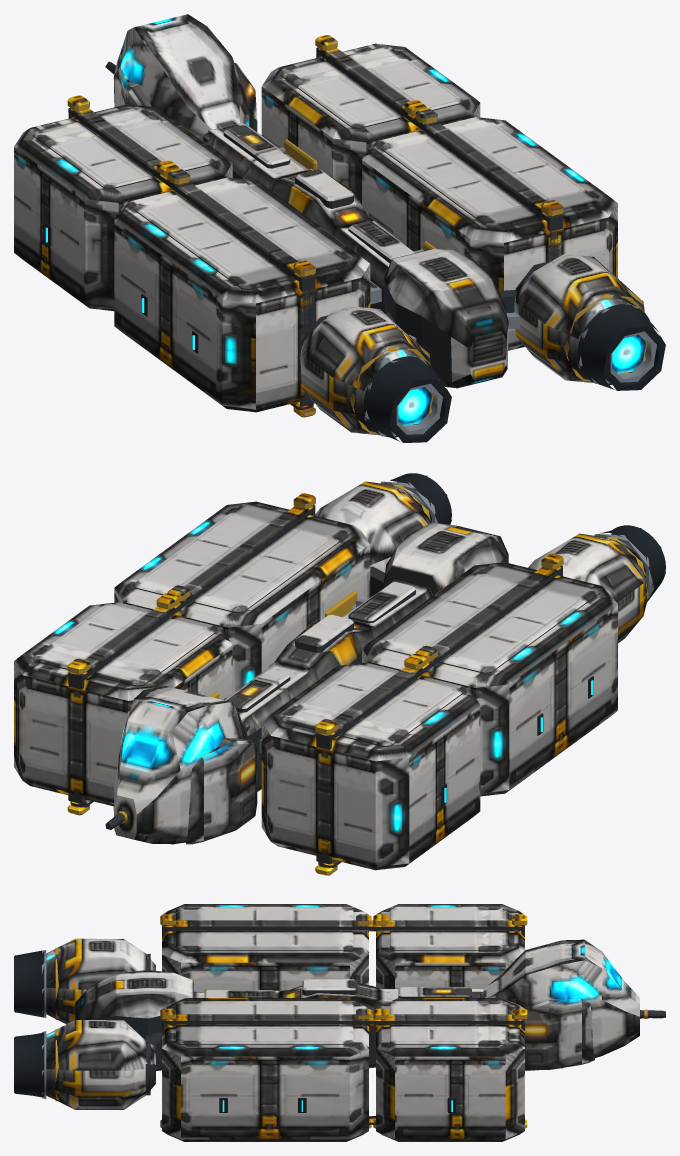
Rendered from small-freighter-lod2.glb.
3 views of the same model, one above another, from view 1: azimuth 30°, elevation 25°; view 2: azimuth 150°, elevation 25°; view 3: azimuth 270°, elevation 25° (orthographic). The views are drawn at different scales.
Visible parts, largest first — view 1: Static / Reference artwork | titanium, brass, panels and can, Static / Structural frames | gunmetal, Static / Structural rails | dark alloy, Static / Ventral armor | dedicated bottom-view reference, Static / Warm brass collars, Static / Machined titanium edges; view 2: Static / Reference artwork | titanium, brass, panels and can, Static / Structural frames | gunmetal, Static / Structural rails | dark alloy, Static / Warm brass collars, Static / Ventral armor | dedicated bottom-view reference, Static / Machined titanium edges; view 3: Static / Reference artwork | titanium, brass, panels and can, Static / Structural frames | gunmetal, Static / Structural rails | dark alloy, Static / Ventral armor | dedicated bottom-view reference, Static / Warm brass collars, Static / Machined titanium edges.
Part boxes in pixels (left/top/right/bottom): Static / Reference artwork | titanium, brass, panels and can: left=14, top=14, right=645, bottom=424; Static / Structural frames | gunmetal: left=32, top=47, right=600, bottom=410; Static / Structural rails | dark alloy: left=45, top=223, right=665, bottom=442; Static / Ventral armor | dedicated bottom-view reference: left=17, top=49, right=594, bottom=435; Static / Warm brass collars: left=67, top=40, right=647, bottom=433; Static / Machined titanium edges: left=280, top=147, right=656, bottom=436; Static / Reference artwork | titanium, brass, panels and can: left=14, top=481, right=647, bottom=871; Static / Structural frames | gunmetal: left=32, top=505, right=600, bottom=867; Static / Structural rails | dark alloy: left=390, top=473, right=665, bottom=806; Static / Warm brass collars: left=67, top=484, right=648, bottom=874; Static / Ventral armor | dedicated bottom-view reference: left=23, top=505, right=642, bottom=875; Static / Machined titanium edges: left=259, top=481, right=653, bottom=752; Static / Reference artwork | titanium, brass, panels and can: left=46, top=904, right=639, bottom=1139; Static / Structural frames | gunmetal: left=89, top=925, right=665, bottom=1124; Static / Structural rails | dark alloy: left=14, top=950, right=456, bottom=1112; Static / Ventral armor | dedicated bottom-view reference: left=46, top=924, right=639, bottom=1141; Static / Warm brass collars: left=55, top=920, right=647, bottom=1128; Static / Machined titanium edges: left=42, top=950, right=46, bottom=1098.
Bounding box in the file's own units: 8.3 × 3.3 × 15.06.
Materials: 7 (2 with a texture image).
